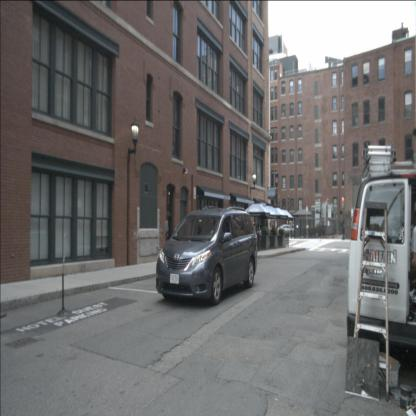human-pedestrian-adult: (257, 226, 264, 247)
vehicle-car: (346, 145, 416, 375), (156, 206, 258, 306), (278, 224, 298, 238)
